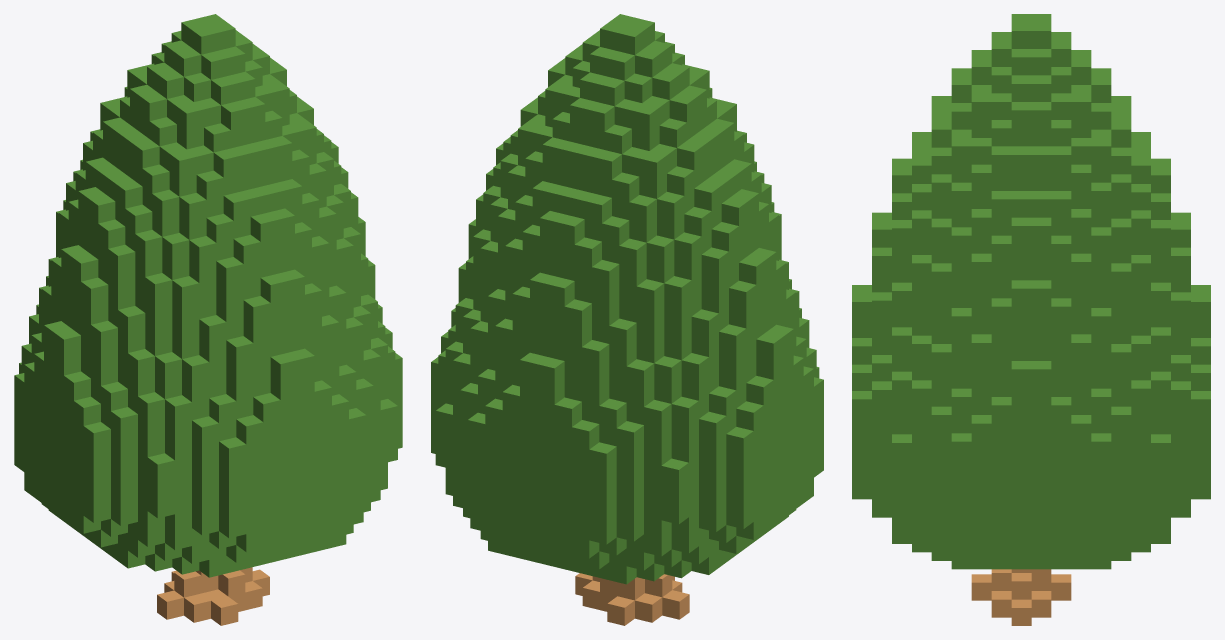
Rendered from TreeDark_4.obj.
3 views of the same model, side by side, from view 1: azimuth 30°, elevation 25°; view 2: azimuth 150°, elevation 25°; view 3: azimuth 270°, elevation 25° (orthographic).
Bounding box in the file's own units: 1.8 × 3.2 × 1.8.
Materials: 1 (1 with a texture image).
